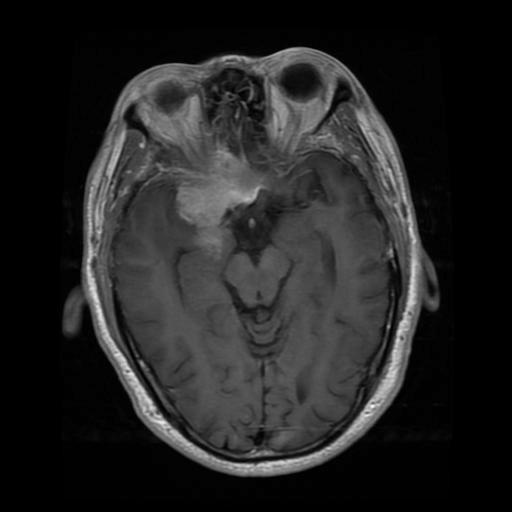Tumour-Meningioma: (157, 172, 292, 265)
